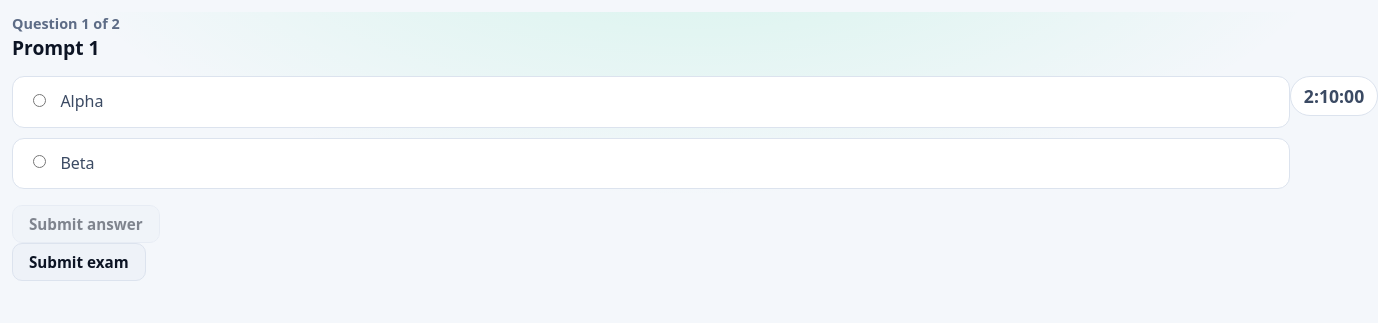
Test: timed exam (REQ-PRAC-001) › submits early and goes to the review screen
Click the button "Submit exam": point(79, 262) [12, 243, 146, 281]
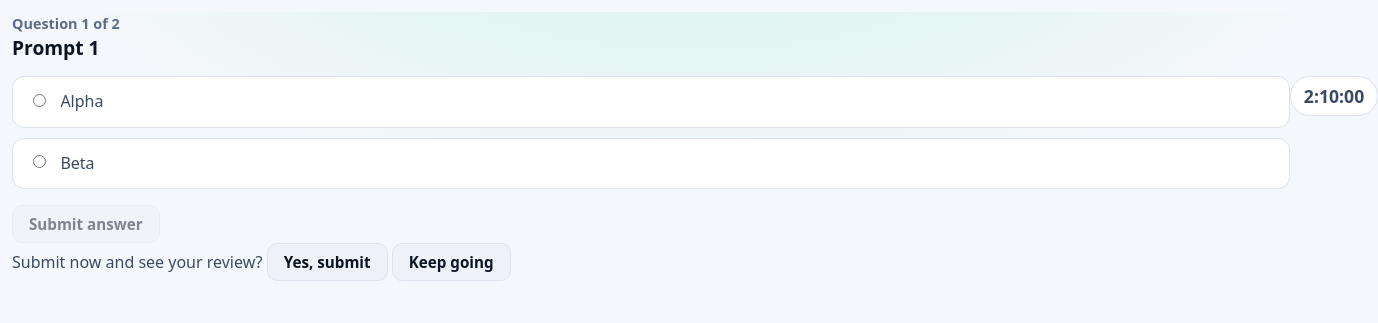
Click the button "Yes, submit": point(327, 262) [267, 243, 388, 281]
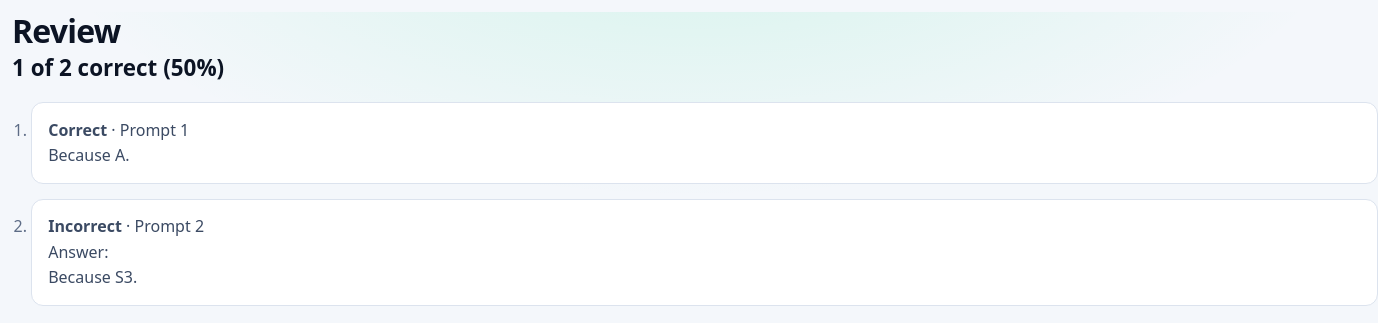
expect the text "1 of 2 correct (50%)" is shown: met, box [12, 52, 224, 83]
